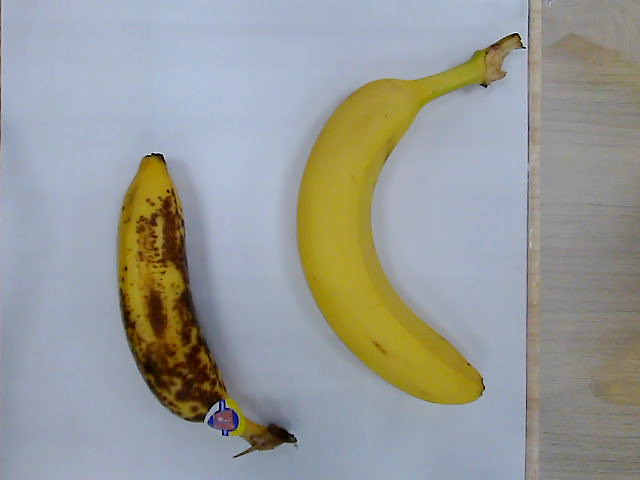fresh_banana: (299, 31, 527, 404)
rotten_banana: (117, 153, 298, 455)
